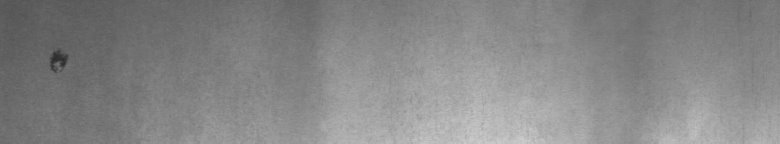fi: (44, 44, 72, 80)
